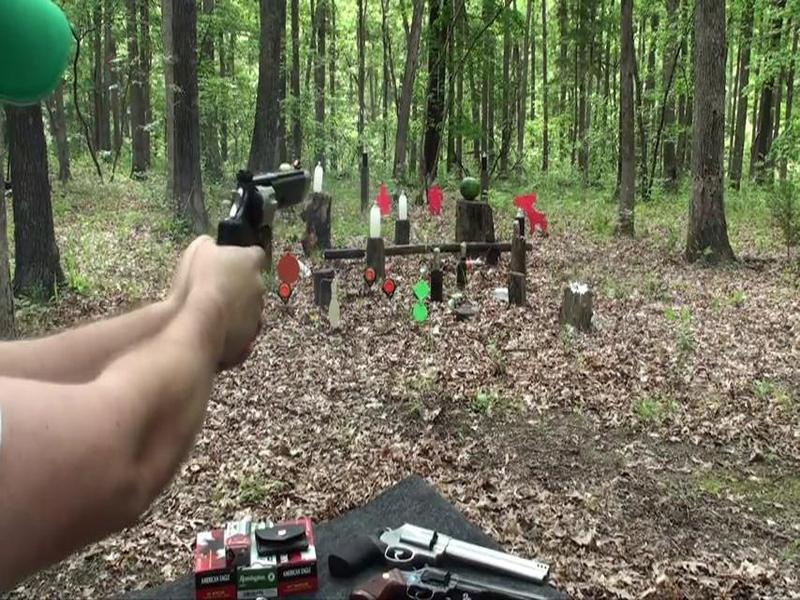Revolver: (210, 161, 322, 254)
